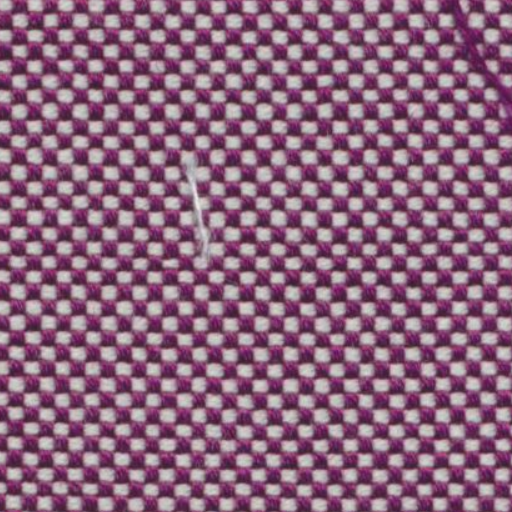DuanSha: (428, 4, 508, 110), (166, 154, 228, 275)
